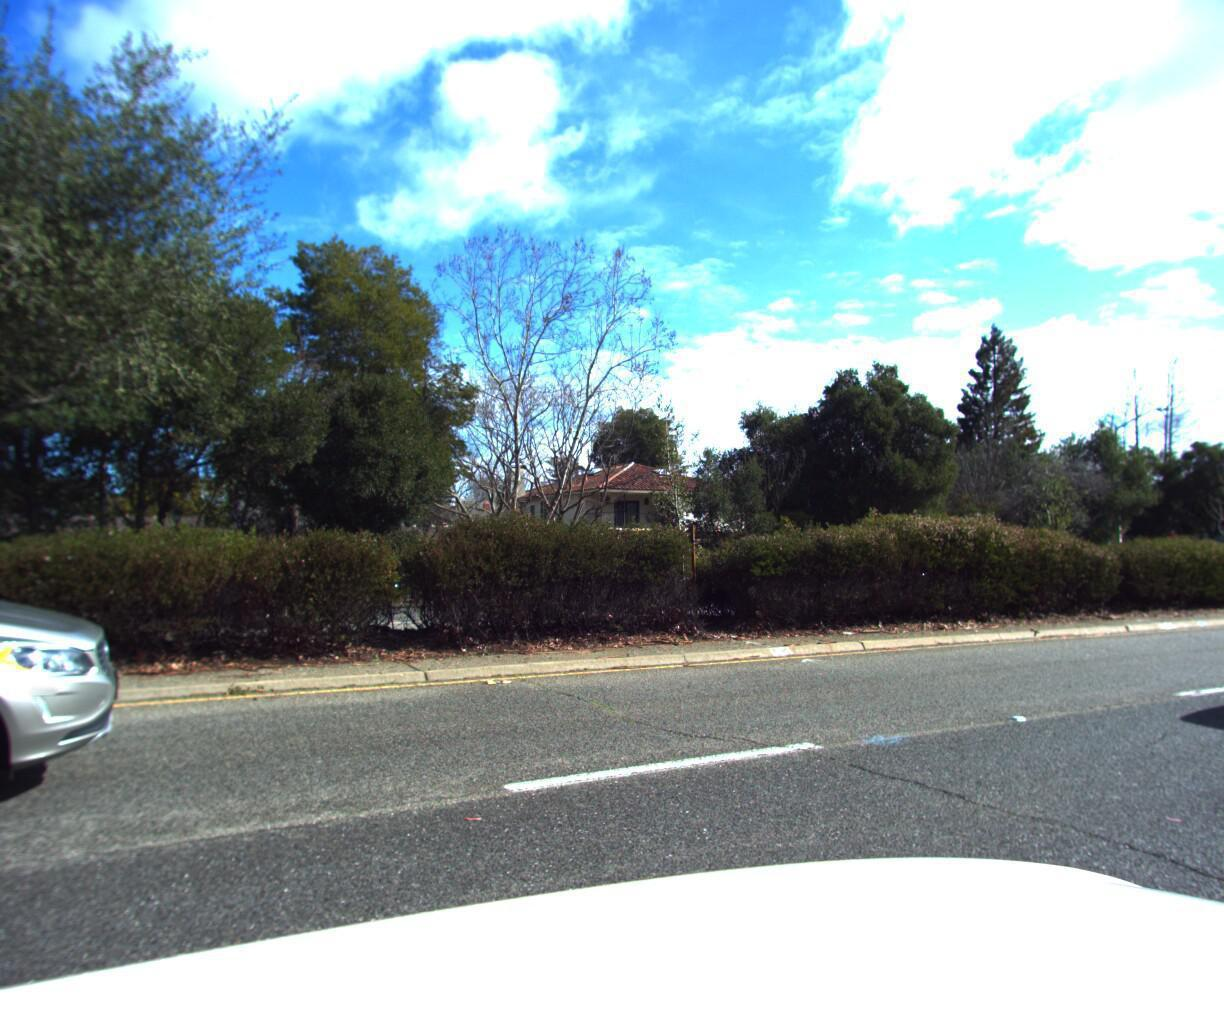car: (0, 423, 150, 1016)
